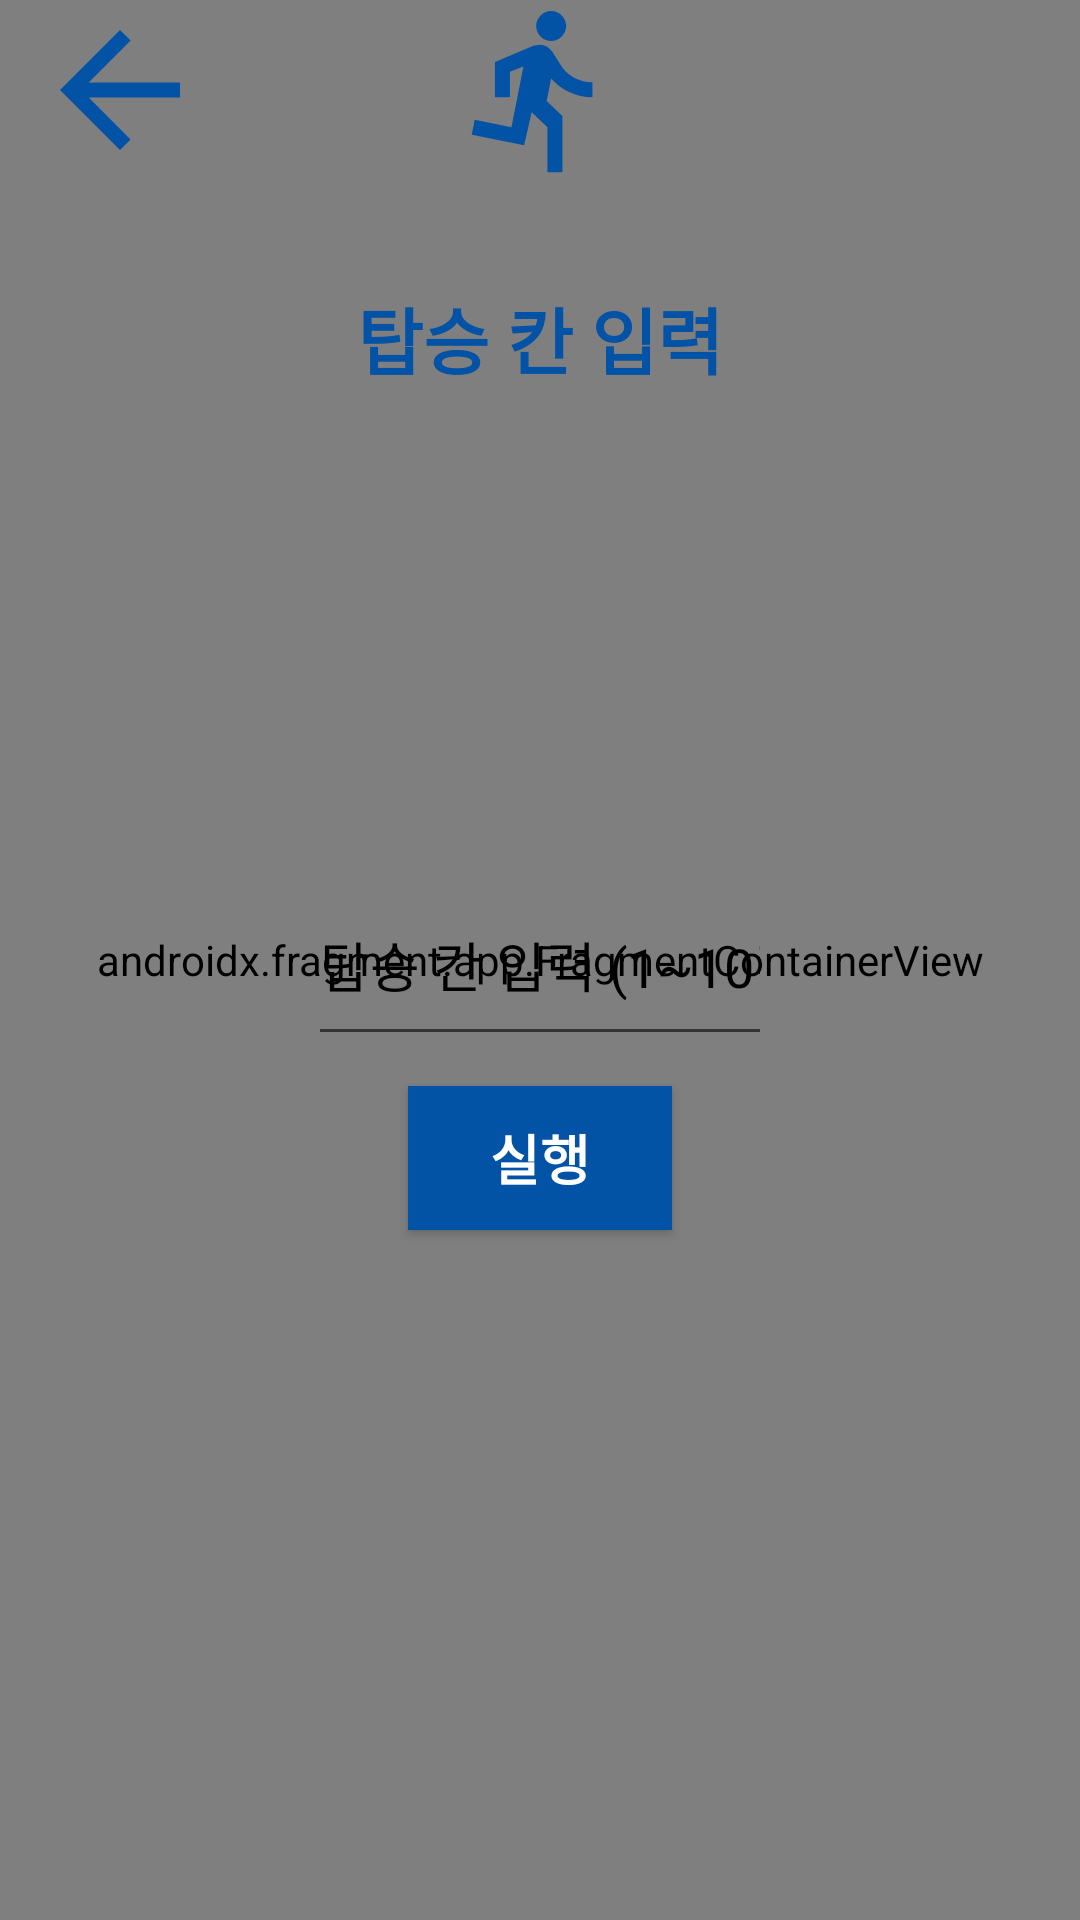

Named icons in this screenshot (1080w x 1920h) and their bounding boxes, [x1=x1, y1=y1, x2=x2, y2=y2]:
directions run: [x1=472, y1=11, x2=593, y2=173]
